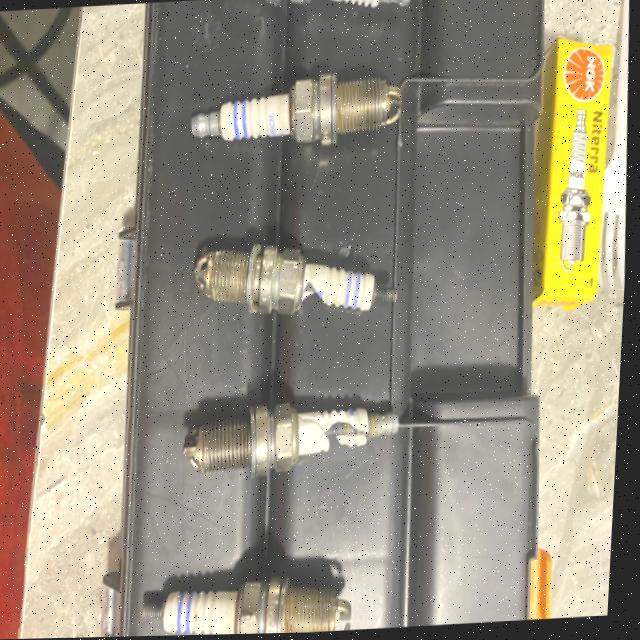damaged_spark-plug: (188, 230, 405, 339), (176, 394, 411, 494)
spark-plug: (176, 59, 415, 171), (141, 564, 368, 637)
